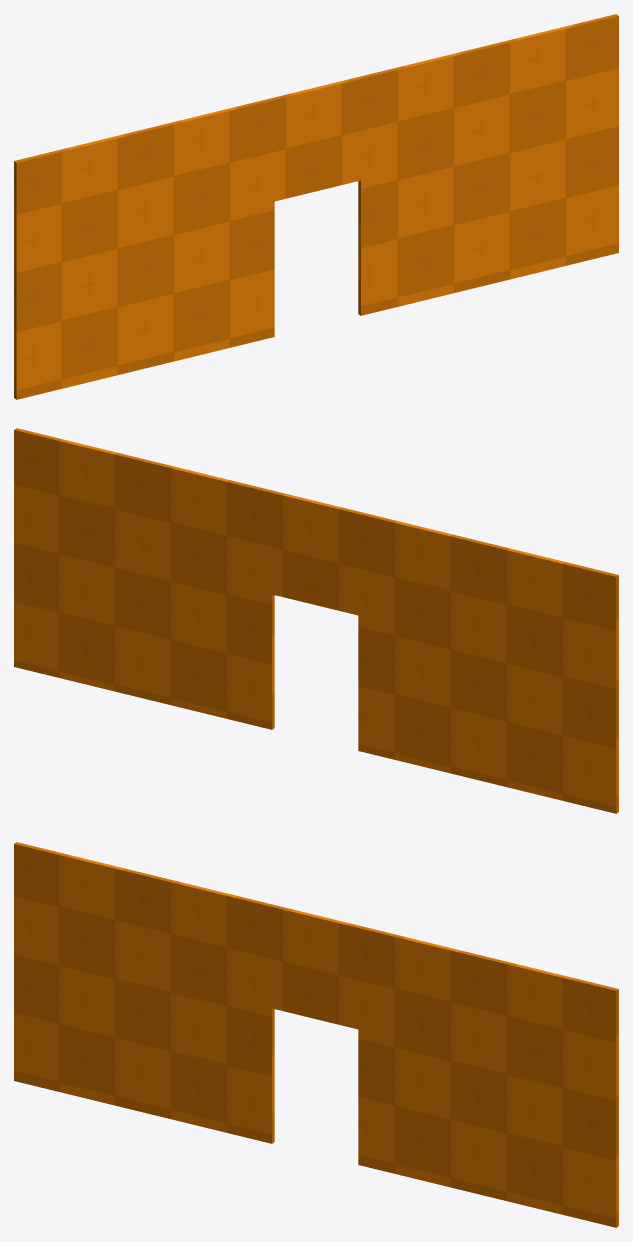
Rendered from wall.glb.
3 renders of one model, top to bottom at view 1: azimuth 30°, elevation 25°; view 2: azimuth 150°, elevation 25°; view 3: azimuth 330°, elevation 25°, orthographic.
Parts seen in each view (by area): view 1: Wall; view 2: Wall; view 3: Wall.
Boxes of the visible parts, left/top/right/bottom form: Wall: left=14, top=14, right=618, bottom=399; Wall: left=14, top=428, right=618, bottom=813; Wall: left=14, top=842, right=618, bottom=1227.
Size of what is drawn, in the model's own units: 15.96 by 6 by 0.12.
1 material, 1 textured.
